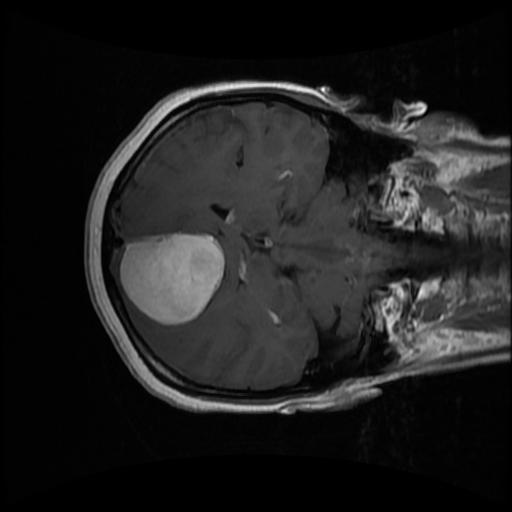meningioma: (118, 233, 226, 326)
